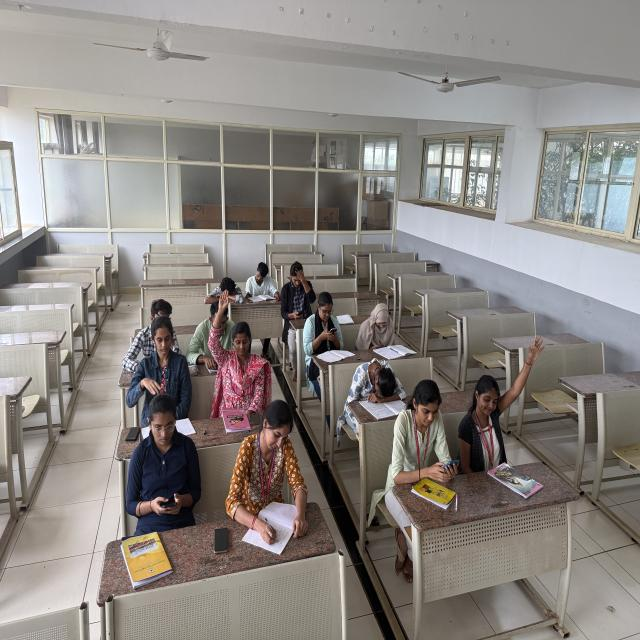Hand Rising: (458, 333, 550, 480), (207, 286, 265, 399)
Reading: (242, 258, 284, 312)
Sleeping: (346, 358, 408, 418), (202, 270, 246, 310)
Using Phone: (111, 391, 204, 542), (387, 379, 462, 505), (302, 292, 354, 384), (274, 256, 318, 341), (355, 296, 410, 360)
Writing: (222, 398, 310, 549)
